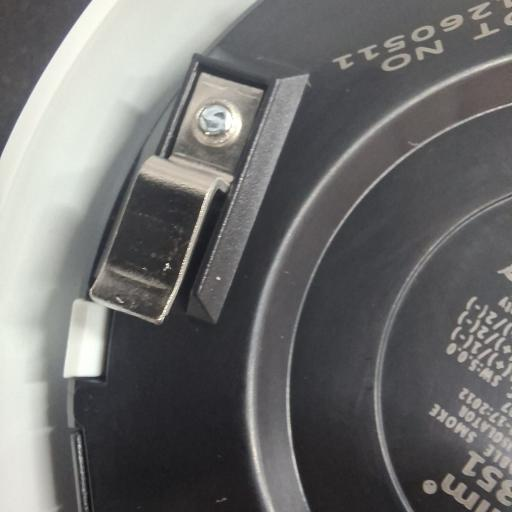yaysiz: (86, 59, 270, 329)
